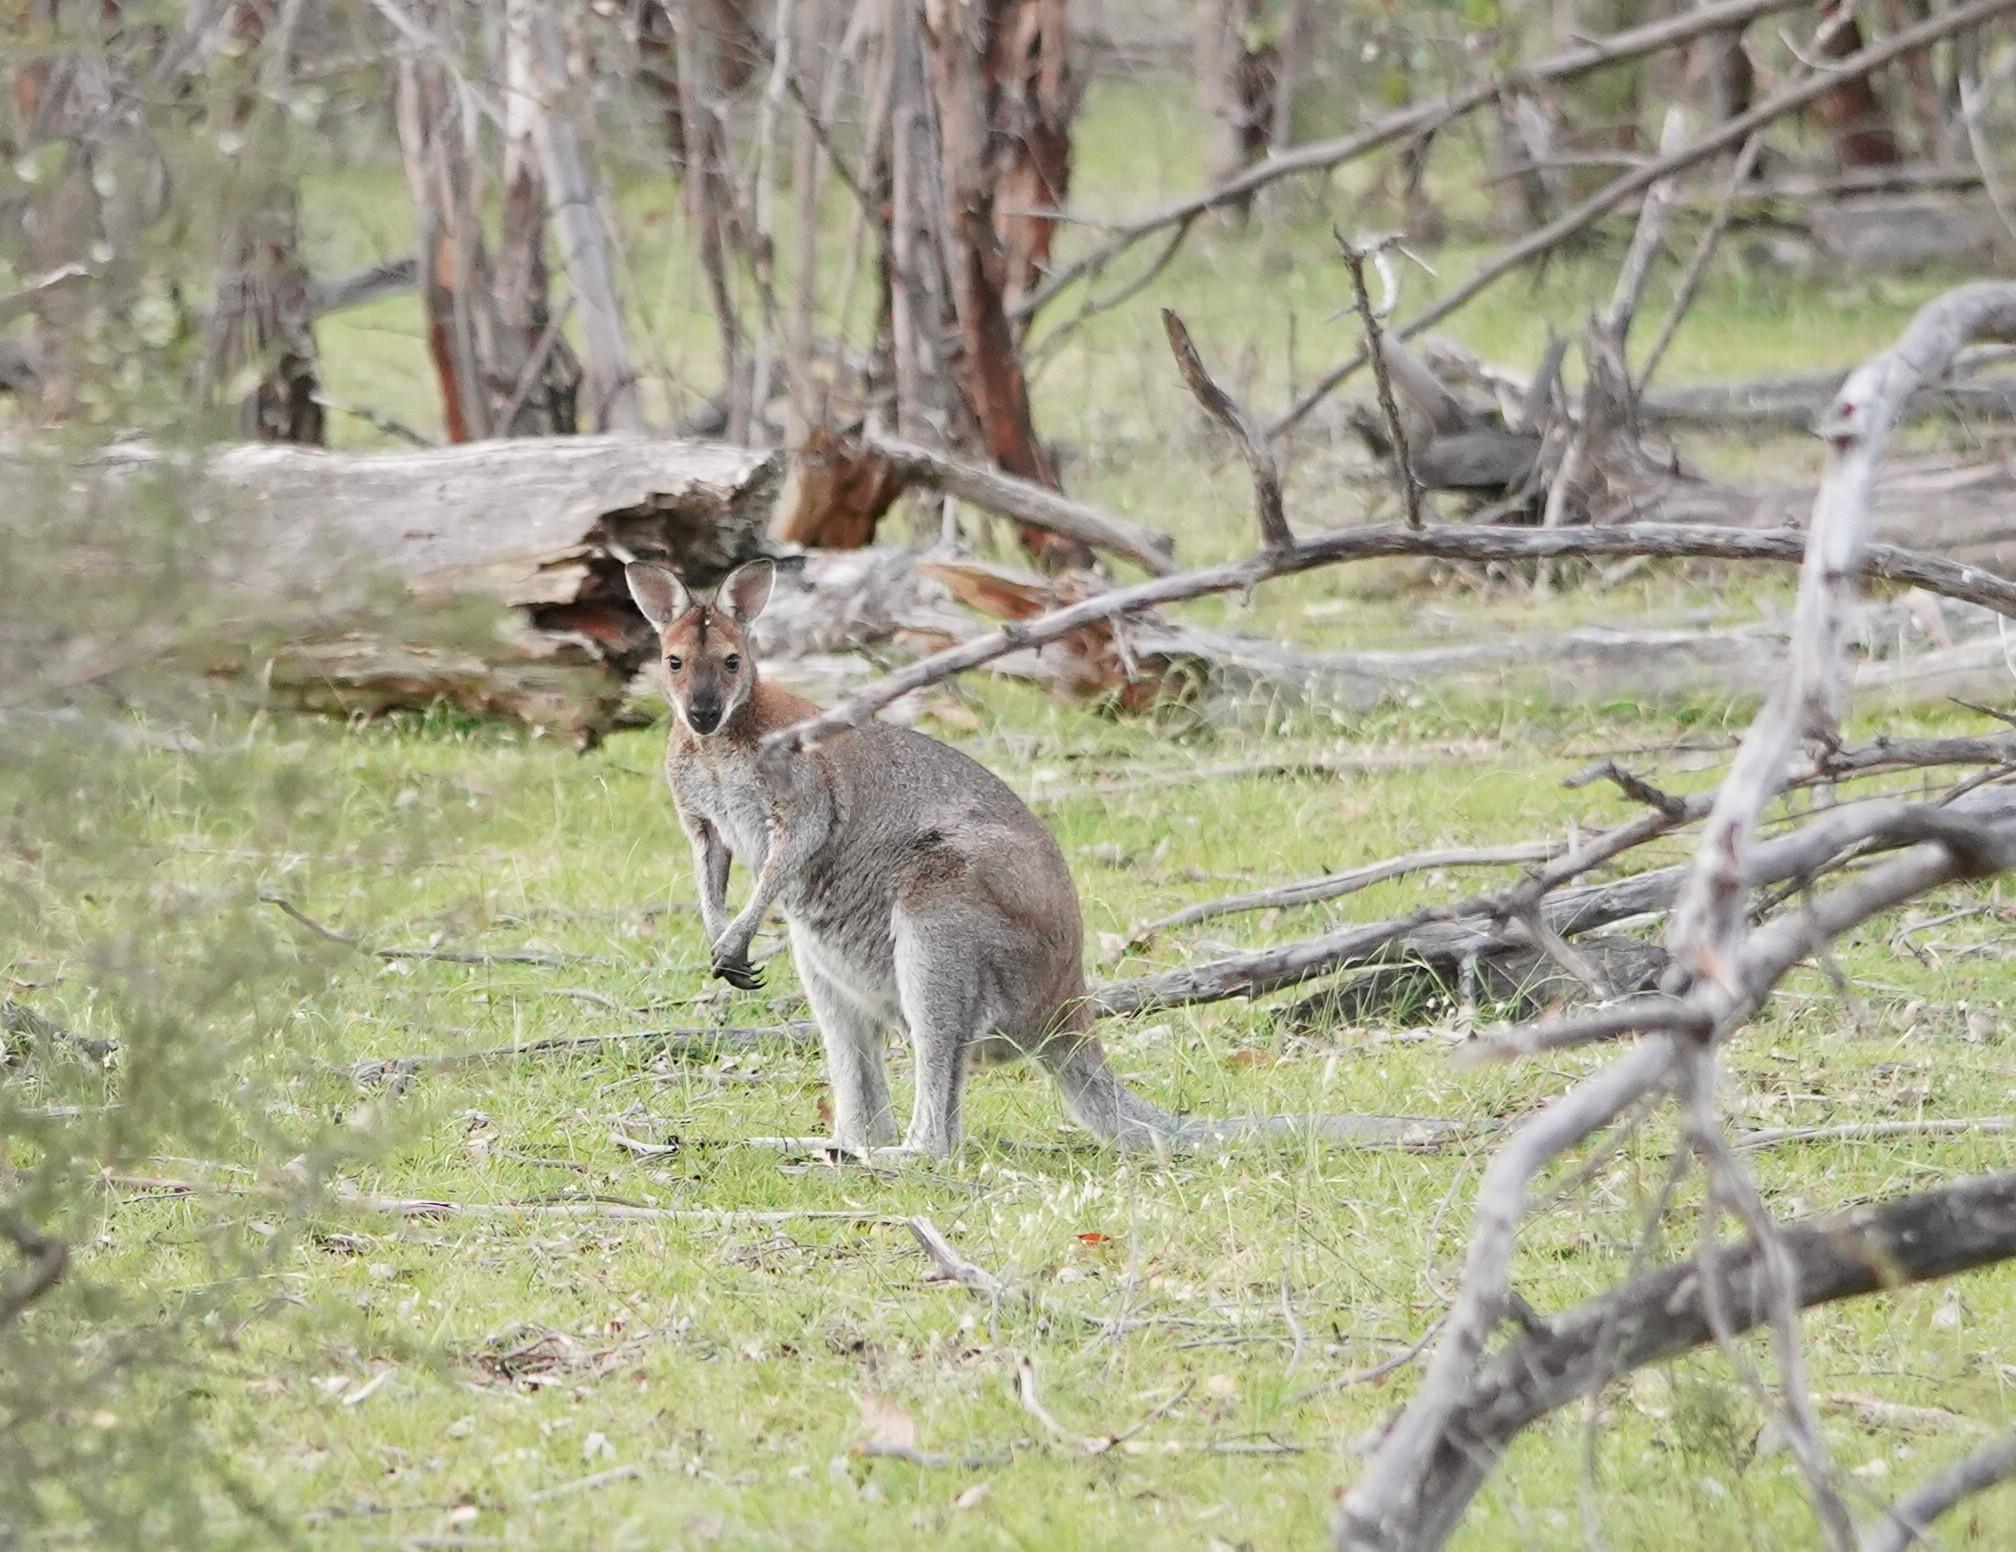Red-necked wallaby: (619, 559, 1542, 1206)
